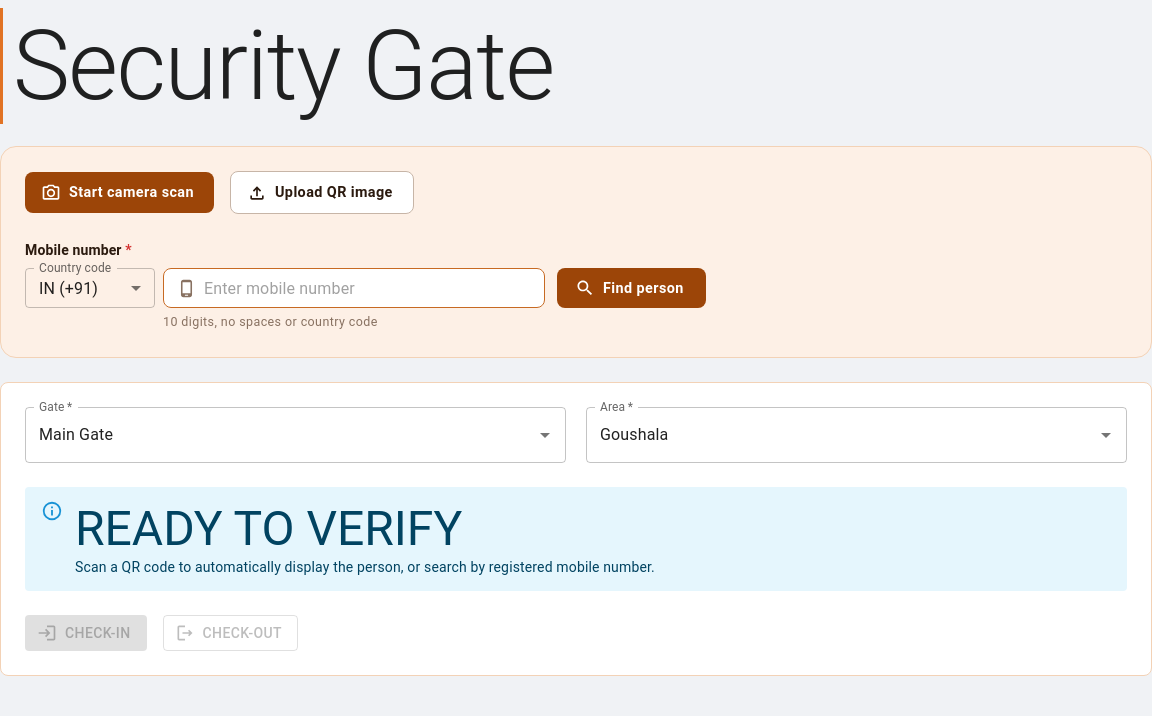
Test: releases a camera that finishes starting after leaving the screen
The width and height of the screenshot is (1152, 716).
Click the button "Start camera scan": (120, 193) [25,172,214,213]
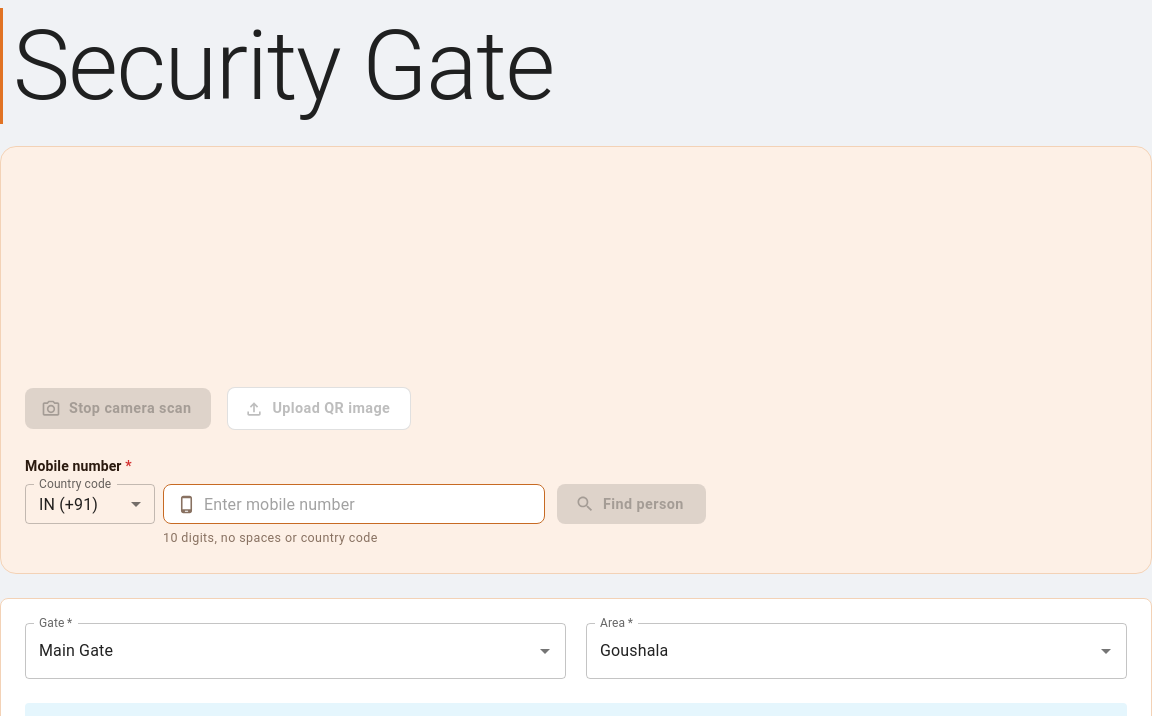
Check: the button "Stop camera scan" is disabled, box [25,388,211,429]
